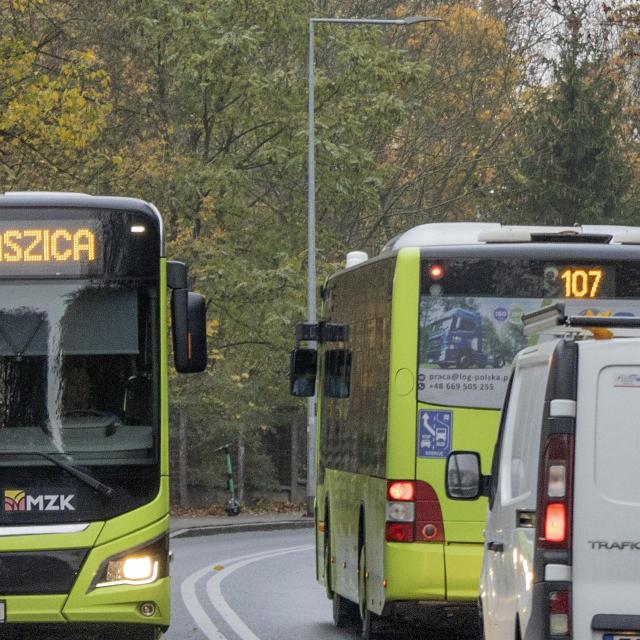Bus: (290, 222, 640, 631), (0, 192, 206, 632)
Electric pole: (308, 16, 442, 323), (308, 396, 317, 515)
